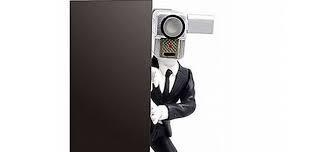no more kid: (152, 4, 218, 61)
